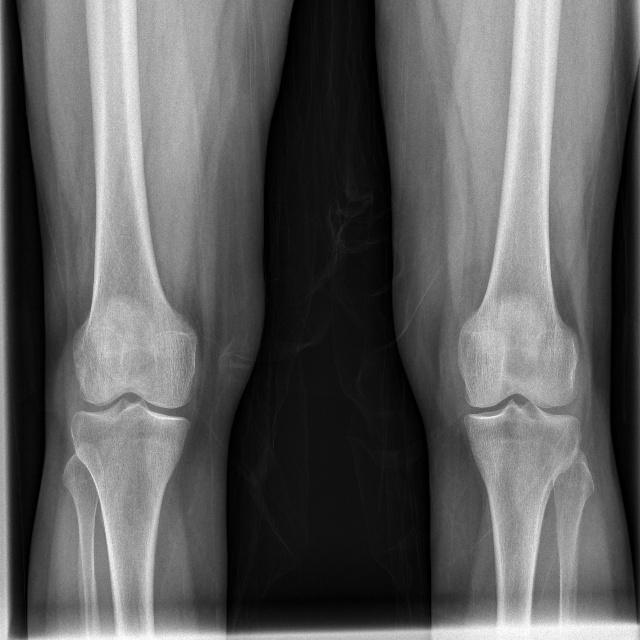Knee: (66, 341, 197, 459), (454, 347, 579, 466)
